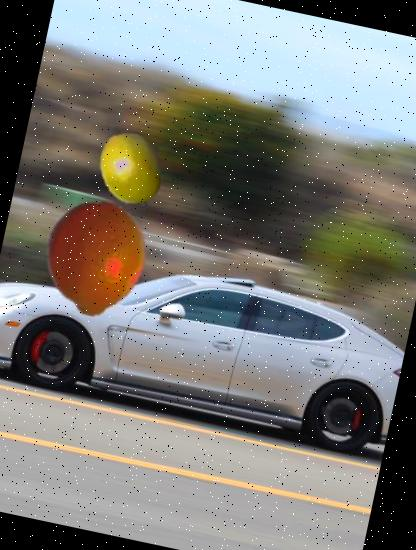Maracuja: (86, 124, 176, 214)
Tangelo: (27, 191, 162, 326)
